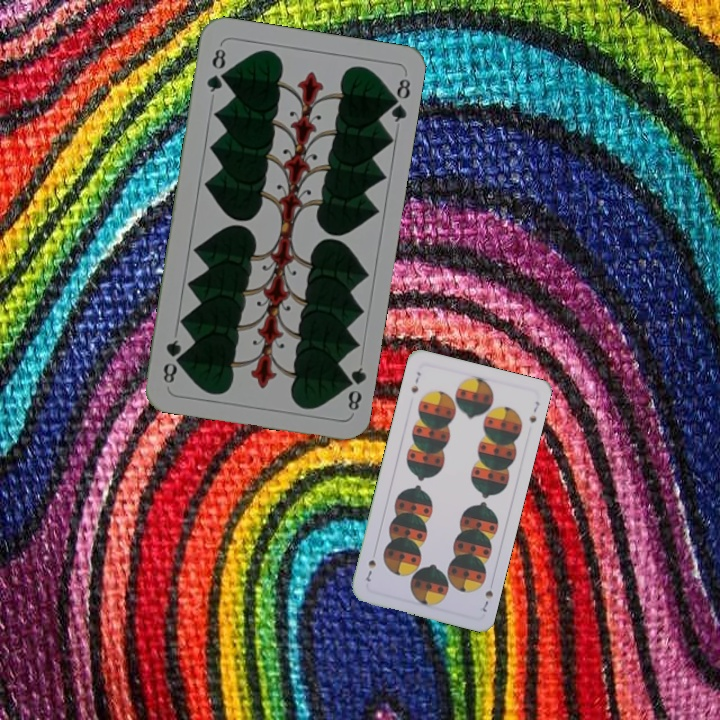G8: (339, 363, 369, 413), (202, 41, 229, 95)
S7: (476, 586, 496, 615), (407, 368, 423, 395)
